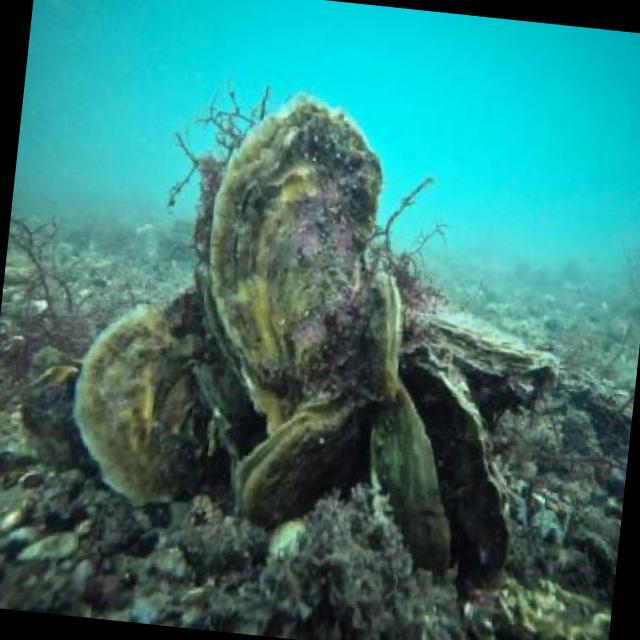Oyster- Indeterminate: (192, 108, 421, 410), (80, 279, 233, 482)
Oyster-Closed: (405, 295, 583, 401), (355, 257, 421, 391)
Oyster-Open: (375, 336, 512, 564), (219, 395, 389, 520)
